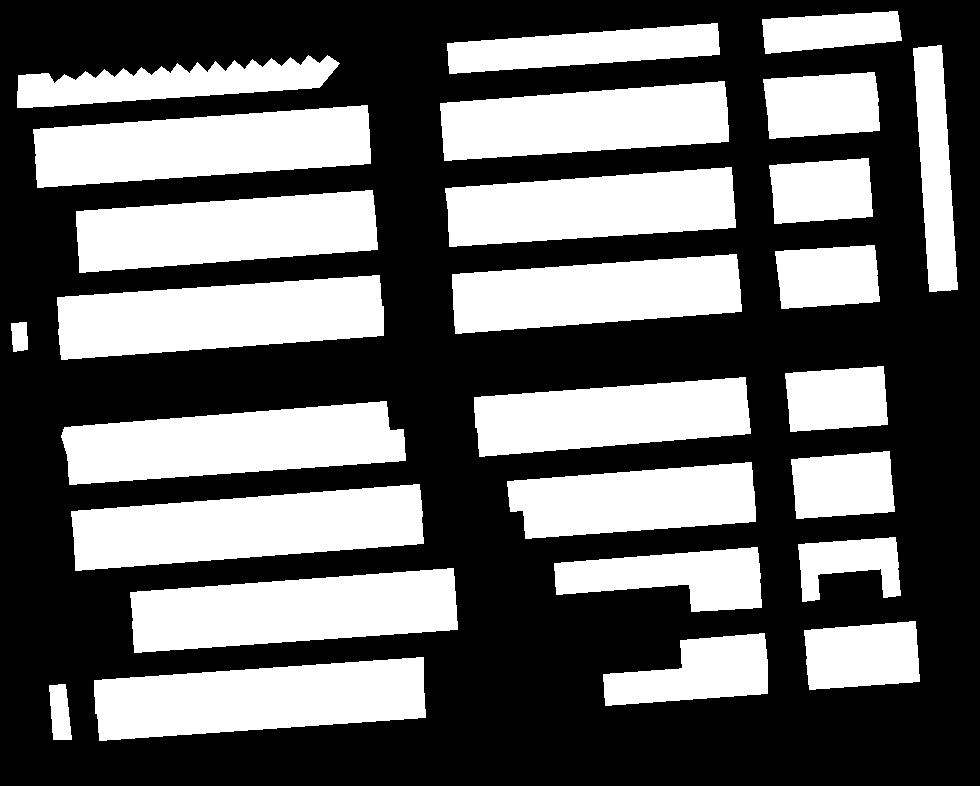parkingspot: (71, 484, 422, 541), (74, 515, 423, 570), (67, 429, 405, 484), (94, 657, 423, 713), (35, 133, 370, 187), (97, 685, 425, 740), (130, 568, 455, 623), (132, 597, 457, 652), (33, 105, 369, 158), (61, 401, 389, 455), (57, 275, 381, 329), (58, 306, 383, 359), (17, 55, 339, 107), (78, 219, 377, 272), (445, 167, 733, 220), (76, 190, 375, 241), (453, 281, 741, 333), (440, 81, 727, 133), (448, 195, 735, 246), (452, 254, 739, 305), (442, 109, 728, 160), (477, 403, 750, 456), (474, 377, 747, 427), (447, 23, 719, 73), (507, 462, 753, 511), (523, 491, 755, 538), (913, 45, 957, 291), (554, 547, 760, 594), (603, 662, 767, 705), (762, 11, 901, 53), (767, 98, 879, 138), (804, 621, 917, 660), (806, 650, 919, 689), (763, 72, 878, 110), (791, 451, 891, 490), (794, 479, 894, 518), (775, 245, 877, 283), (769, 158, 870, 196), (785, 366, 885, 404), (798, 537, 898, 575), (773, 185, 872, 223), (779, 271, 879, 308), (788, 394, 887, 431), (680, 633, 767, 671), (689, 575, 761, 611), (49, 684, 71, 739), (881, 565, 900, 597), (801, 571, 819, 601), (11, 322, 27, 351)
